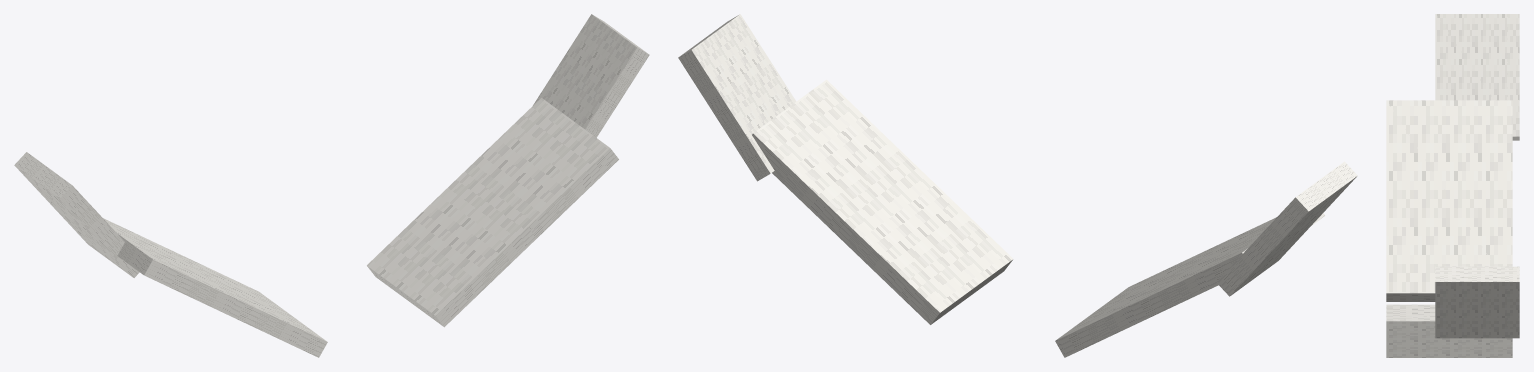
Rendered from alas_de_angel.glb.
The picture shows the model from 3 angles, left to right: view 1: azimuth 30°, elevation 25°; view 2: azimuth 150°, elevation 25°; view 3: azimuth 270°, elevation 25°; orthographic projection. The views are drawn at different scales.
Visible parts, largest first — view 1: _MeshInstance3D_84, _MeshInstance3D_82, _MeshInstance3D_85, _MeshInstance3D_83; view 2: _MeshInstance3D_84, _MeshInstance3D_85, _MeshInstance3D_82, _MeshInstance3D_83; view 3: _MeshInstance3D_82, _MeshInstance3D_83, _MeshInstance3D_85, _MeshInstance3D_84.
Boxes of the visible parts, <box> form: _MeshInstance3D_84: <box>367,98,618,327</box>; _MeshInstance3D_82: <box>103,218,327,357</box>; _MeshInstance3D_85: <box>533,14,649,137</box>; _MeshInstance3D_83: <box>14,152,139,277</box>; _MeshInstance3D_84: <box>752,79,1013,324</box>; _MeshInstance3D_85: <box>678,14,796,181</box>; _MeshInstance3D_82: <box>1055,213,1324,357</box>; _MeshInstance3D_83: <box>1216,161,1357,296</box>; _MeshInstance3D_82: <box>1386,100,1512,301</box>; _MeshInstance3D_83: <box>1435,14,1519,140</box>; _MeshInstance3D_85: <box>1435,266,1519,338</box>; _MeshInstance3D_84: <box>1386,304,1512,357</box>.
Size of the model in its own units: 0.4453 by 0.1491 by 0.095.
1 material, 1 textured.
